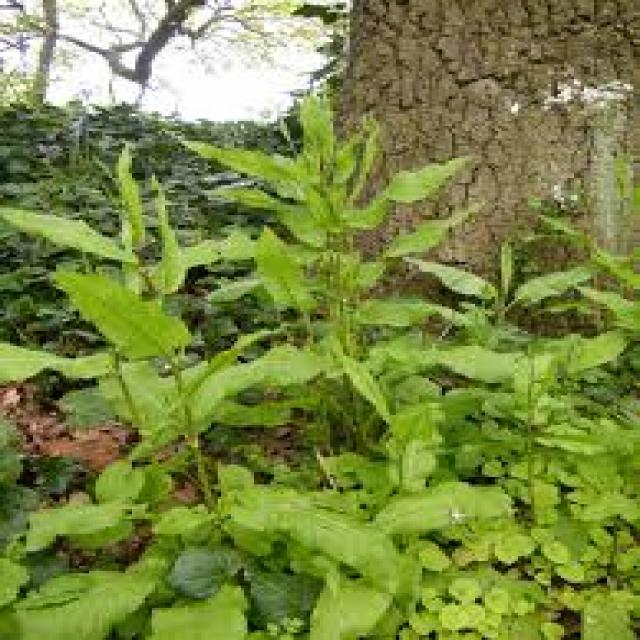organic waste: (13, 165, 360, 608), (231, 118, 505, 480), (46, 447, 462, 640)
